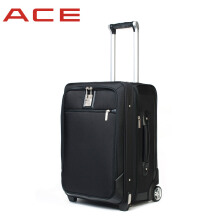luggage: (61, 22, 163, 212)
